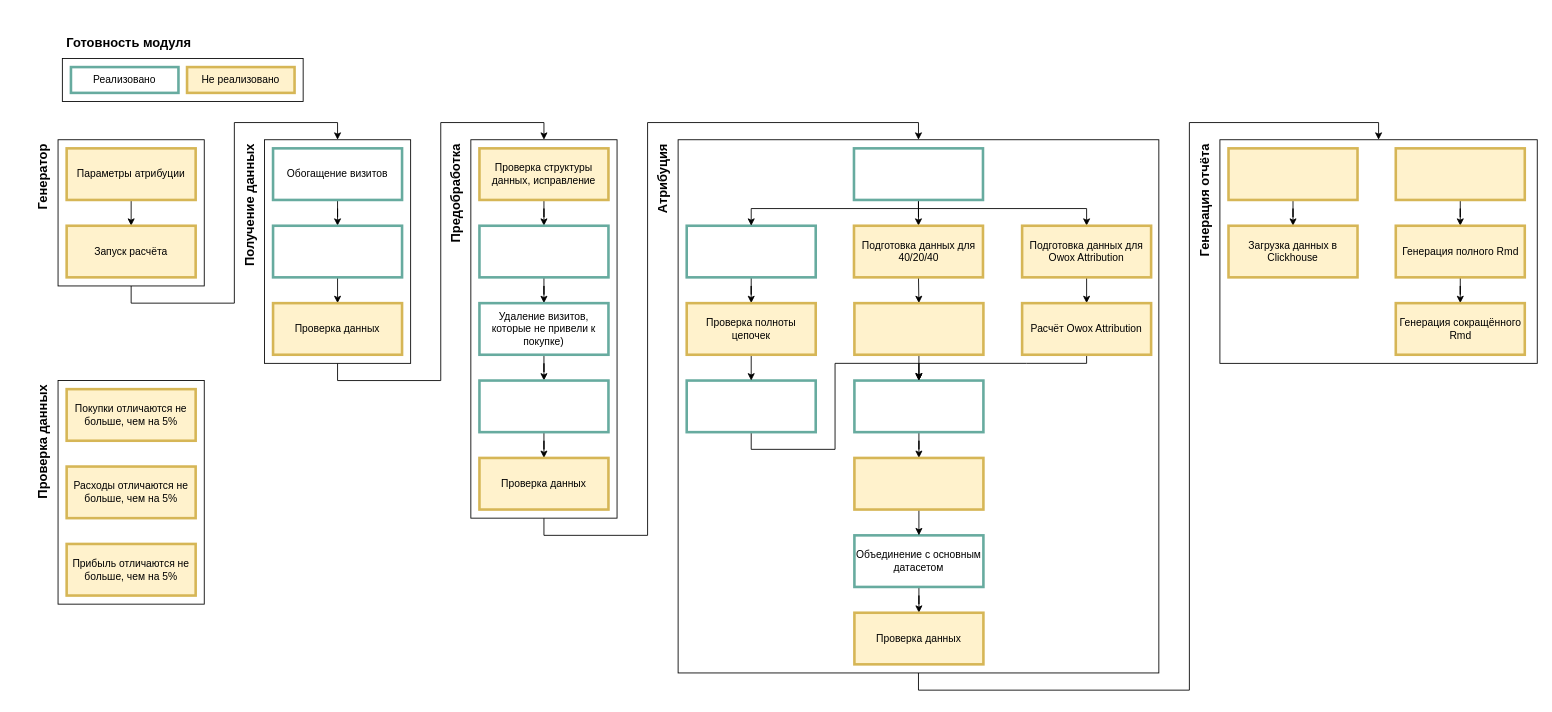
This 1552x712 diagram has some shape labels left out. The shapes that lost their labels are listed below. From the top down, each one's centre as x and y in pixels, then its label:
point 918,174: Расчёт базовой агрегации (до ключей)
point 1292,174: Подготовка данных для Clickhouse
point 1460,174: Подготовка данных для Rmd
point 337,251: Выгрузка данных в обработчик
point 543,251: Создание сущности "покупка"
point 751,251: Подготовка данных для Markov Chain
point 918,328: Расчёт 40/20/40
point 543,406: Удаление "лишних покупок" (из прошлого периода)
point 751,406: Расчёт Markov Chain
point 918,406: Преобразование результата к нужному формату
point 918,483: Проверка на "деньги из воздуха"
